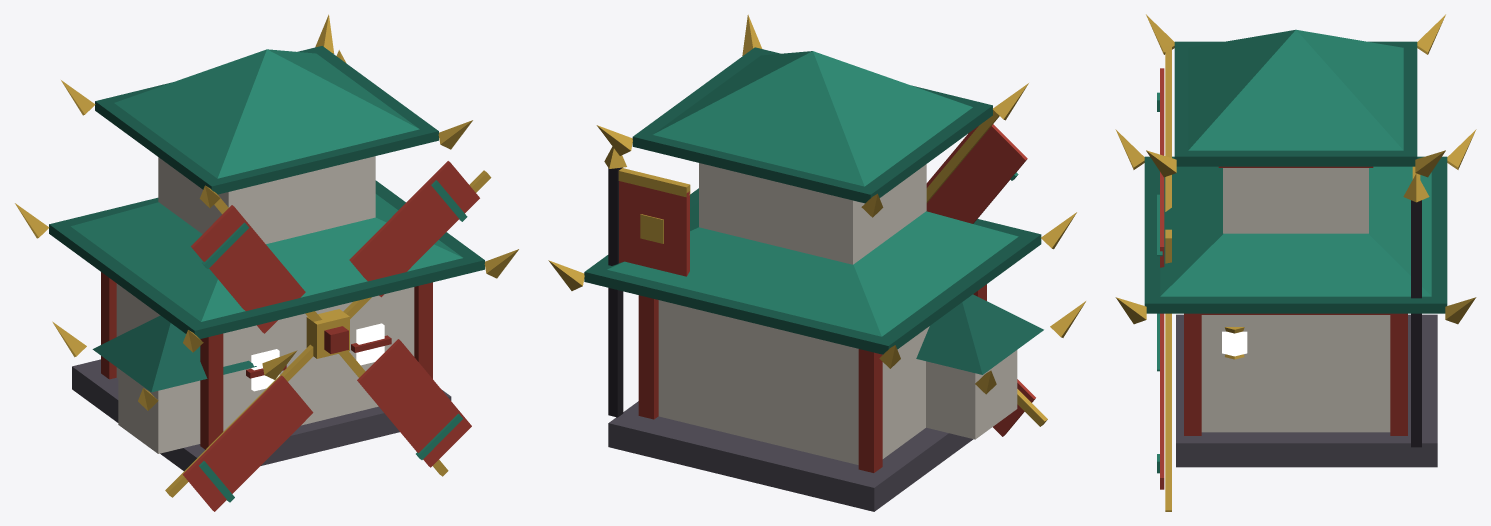
File: mill_t3.glb
3 renders of one model, left to right at view 1: azimuth 30°, elevation 25°; view 2: azimuth 150°, elevation 25°; view 3: azimuth 270°, elevation 25°, orthographic. The views are drawn at different scales.
Parts seen in each view (by area): view 1: body, part_rotor, glow; view 2: body, part_rotor; view 3: body, part_rotor, glow.
Boxes of the visible parts, <box> form: body: <box>15,14,518,470</box>; part_rotor: <box>165,161,491,511</box>; glow: <box>251,323,384,391</box>; body: <box>548,14,1085,511</box>; part_rotor: <box>926,110,1047,436</box>; body: <box>1115,14,1476,467</box>; part_rotor: <box>1157,46,1171,511</box>; glow: <box>1222,331,1247,356</box>.
Bounding box in the file's own units: 1.96 × 2.14 × 1.65.
